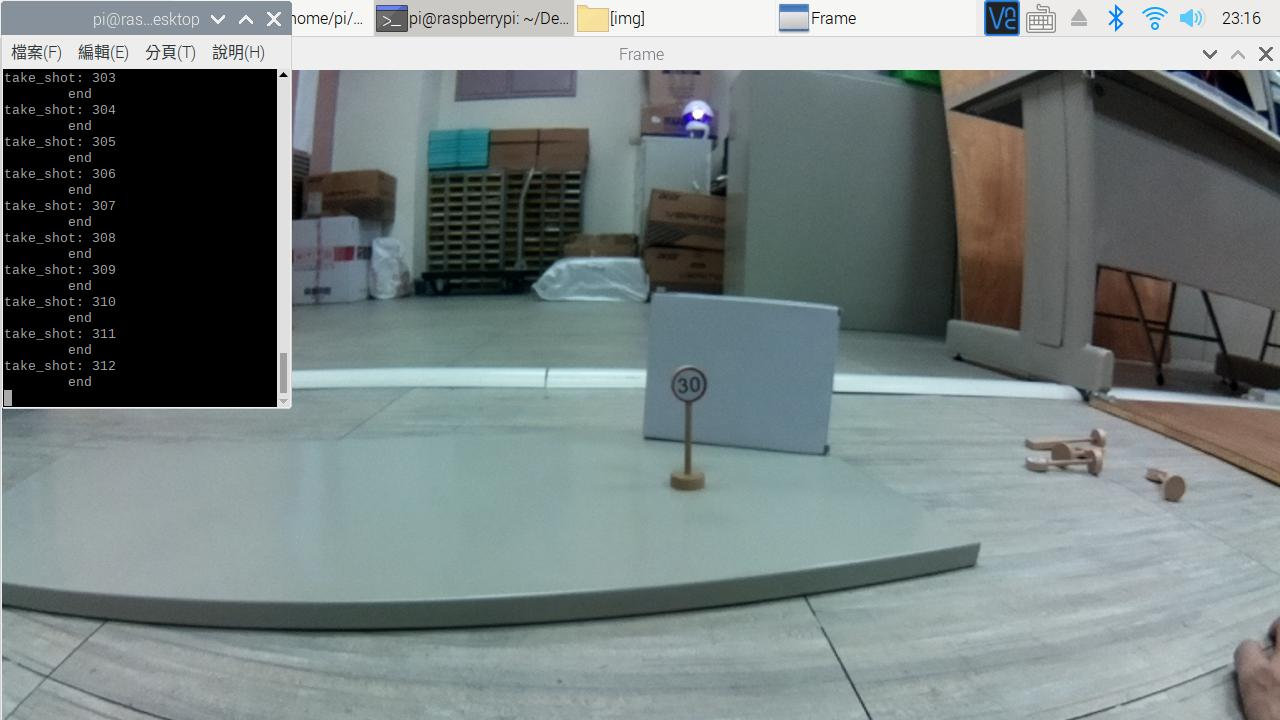Speed30: (661, 357, 721, 420)
